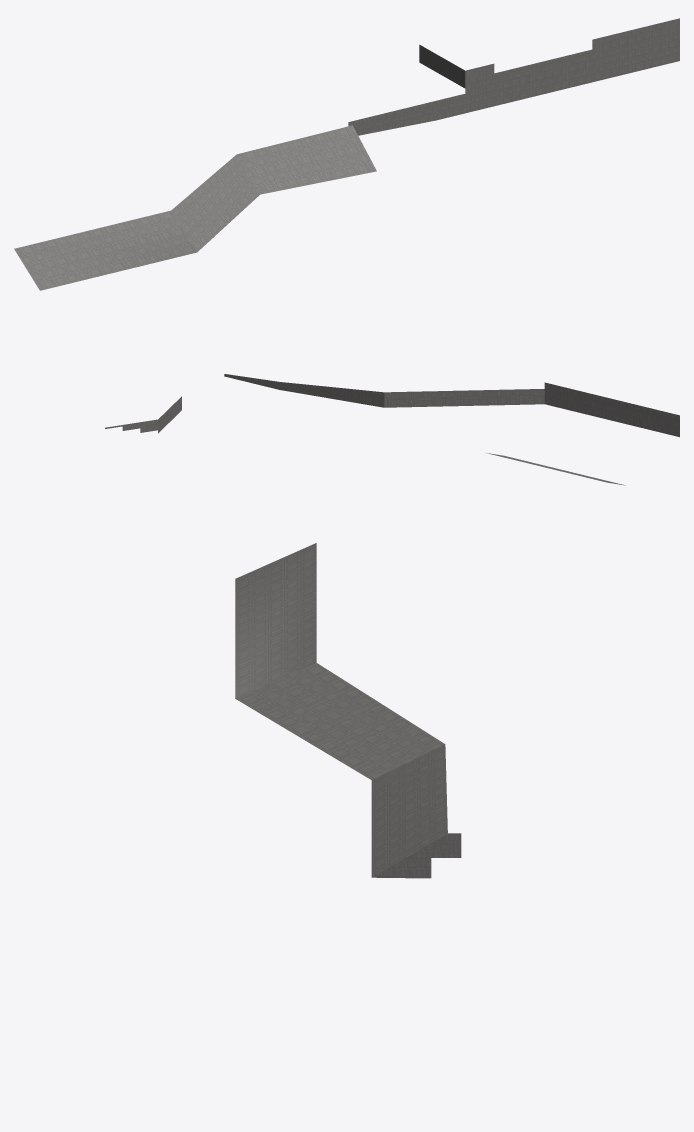
File: kd_connection_town-ground_surface_1_14.glb
3 renders of one model, top to bottom at view 1: azimuth 30°, elevation 25°; view 2: azimuth 150°, elevation 25°; view 3: azimuth 270°, elevation 25°, orthographic. The views are drawn at different scales.
Visible parts, largest first — view 1: kd_connection_town-ground_surface_1_14; view 2: kd_connection_town-ground_surface_1_14; view 3: kd_connection_town-ground_surface_1_14.
Part boxes in pixels (x1,y1,x2,y2): kd_connection_town-ground_surface_1_14: (14,18,679,290); kd_connection_town-ground_surface_1_14: (105,374,679,485); kd_connection_town-ground_surface_1_14: (235,543,461,878).
Bounding box in the file's own units: 22.65 × 1.57 × 11.28.
Materials: 1 (1 with a texture image).
